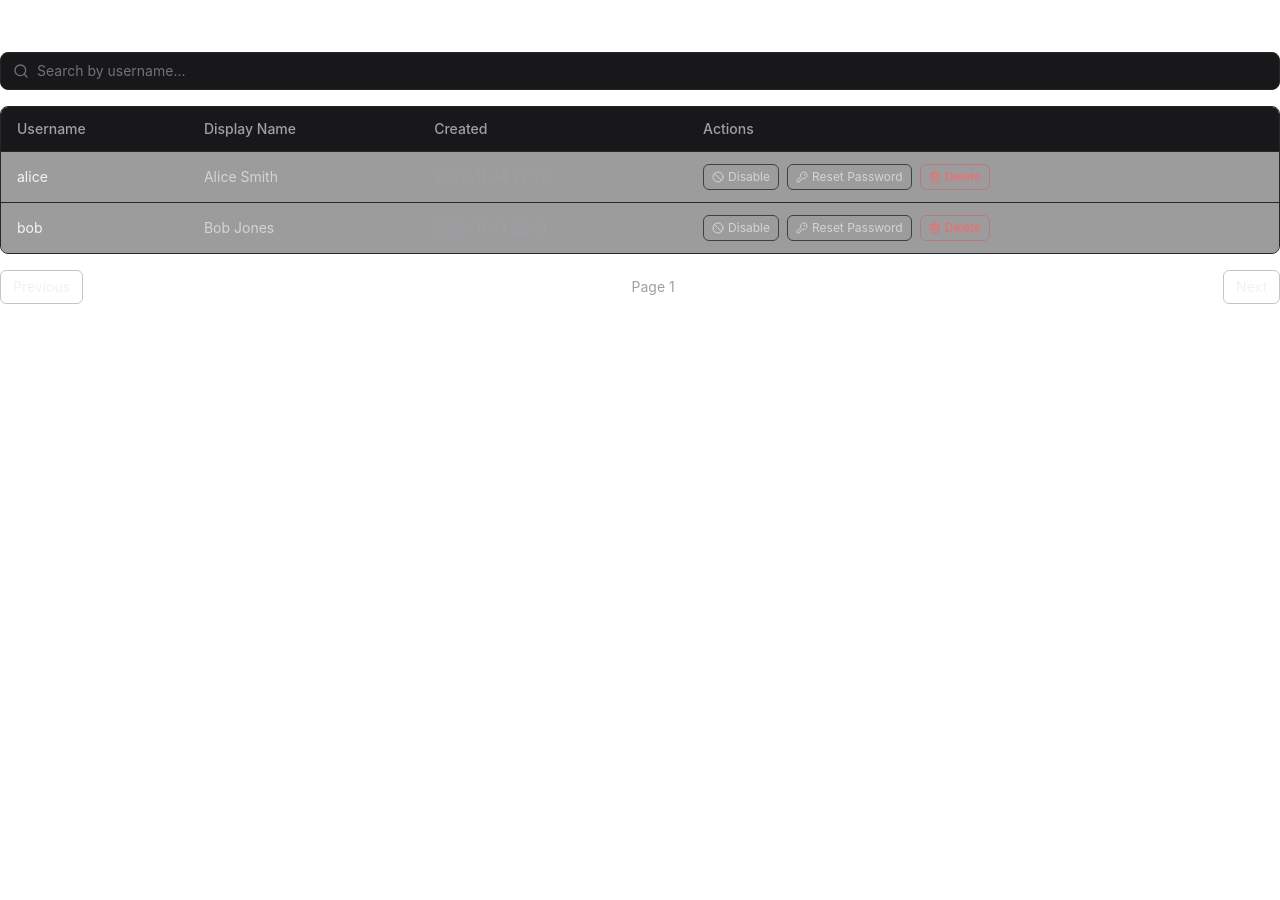
Test: AdminUsersPage › reset password modal opens showing the target username
The image size is (1280, 900).
Click the button "Reset Password" in the row of "Alice Smith" at (849, 177), box [787,164,912,190]
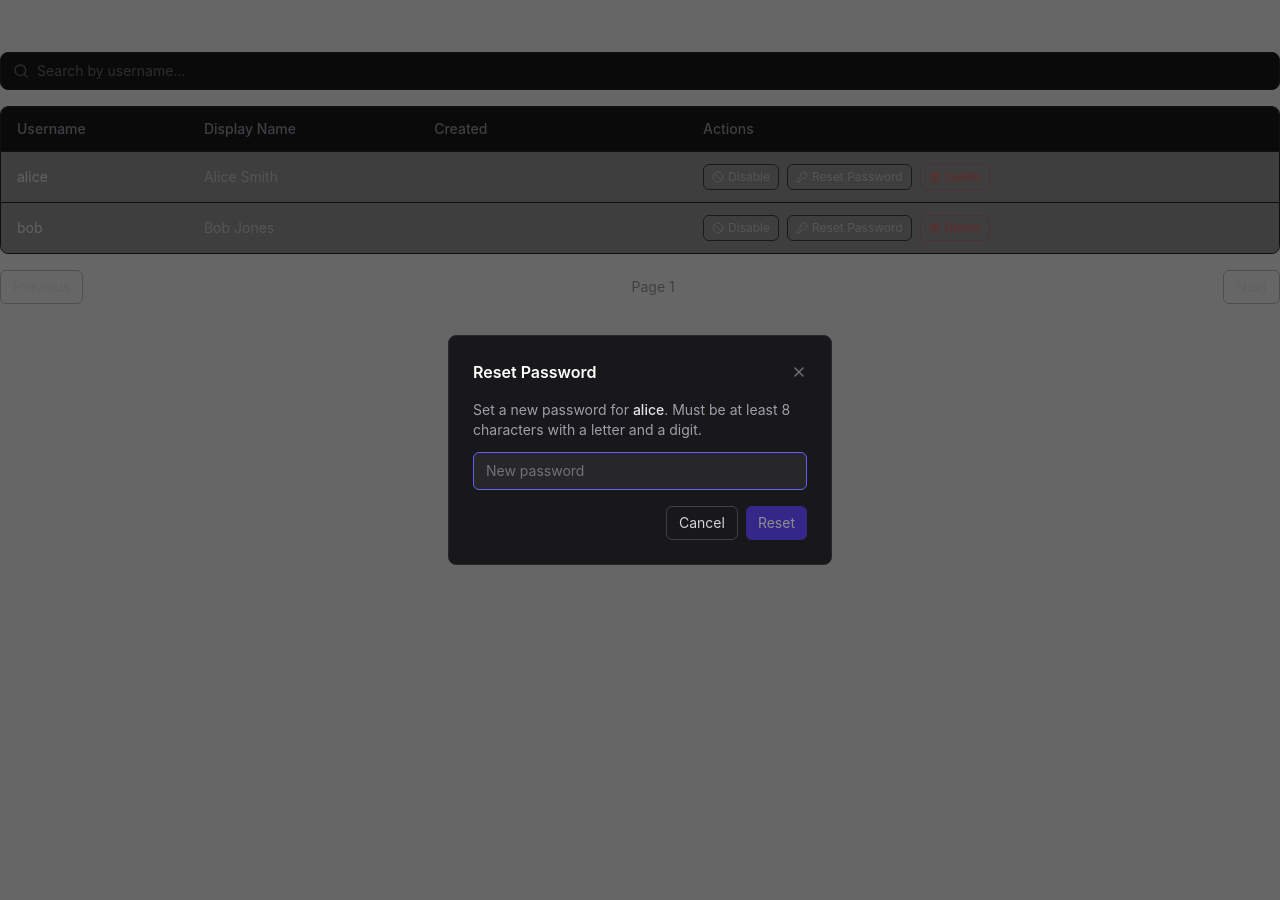
expect the text "Set a new password for" is shown: met, box [473,401,629,418]
